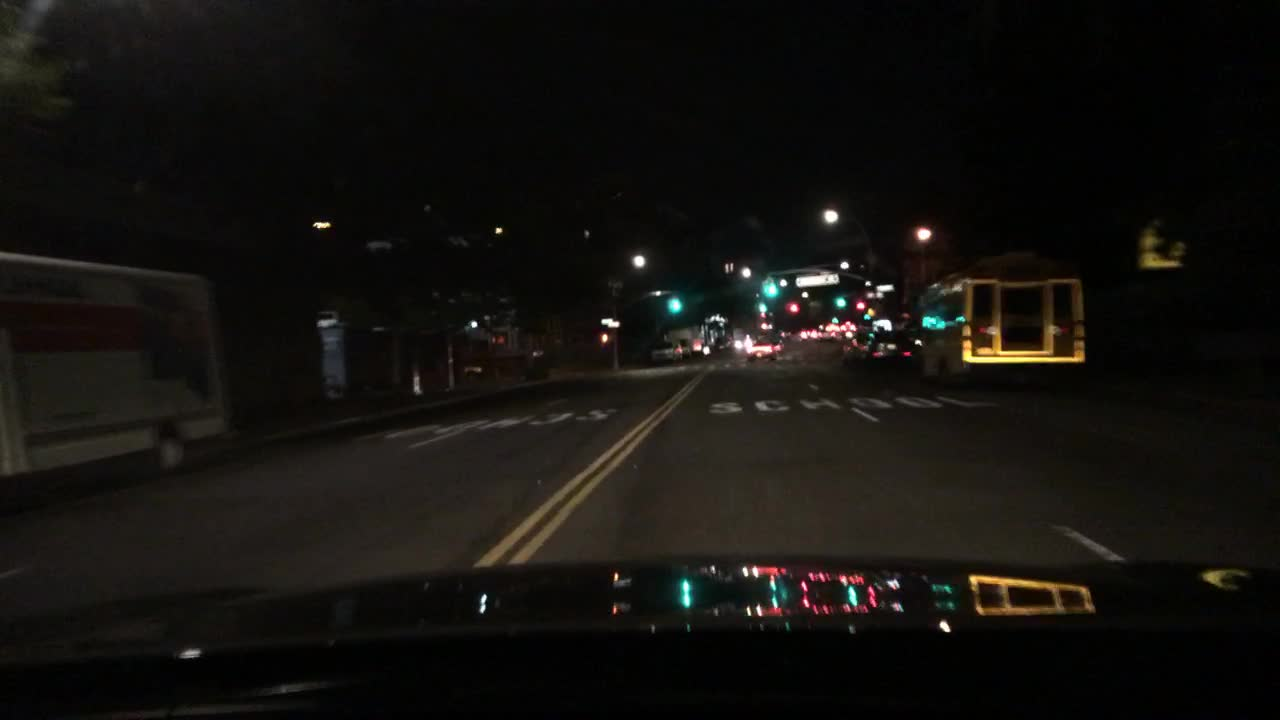bus: (0, 248, 232, 498), (913, 248, 1088, 388)
car: (867, 332, 924, 369), (839, 329, 875, 367), (744, 337, 779, 364), (647, 337, 680, 365), (527, 346, 554, 378), (461, 362, 486, 385), (711, 336, 737, 355), (795, 327, 821, 343), (816, 325, 839, 341), (678, 336, 694, 359), (770, 336, 784, 355)
traffic light: (664, 291, 683, 314), (760, 274, 776, 297), (753, 298, 769, 316), (832, 293, 848, 309), (851, 298, 867, 313), (858, 312, 875, 325), (595, 331, 612, 343), (781, 314, 799, 323)
traffic sign: (1135, 214, 1187, 271), (792, 270, 841, 288), (863, 289, 886, 299), (870, 283, 895, 292)
